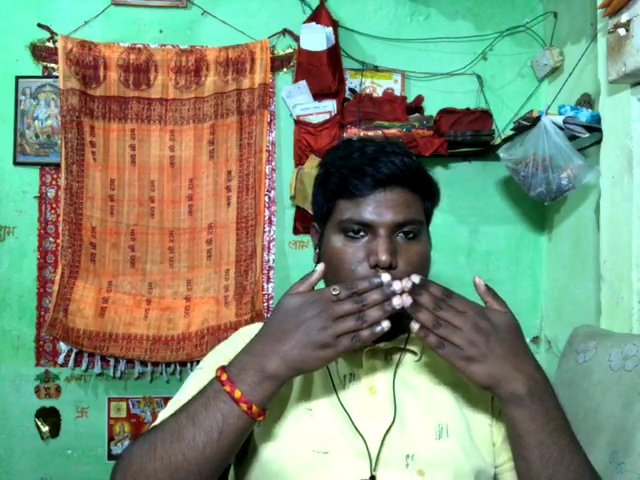Thanks: (229, 262, 568, 430)
